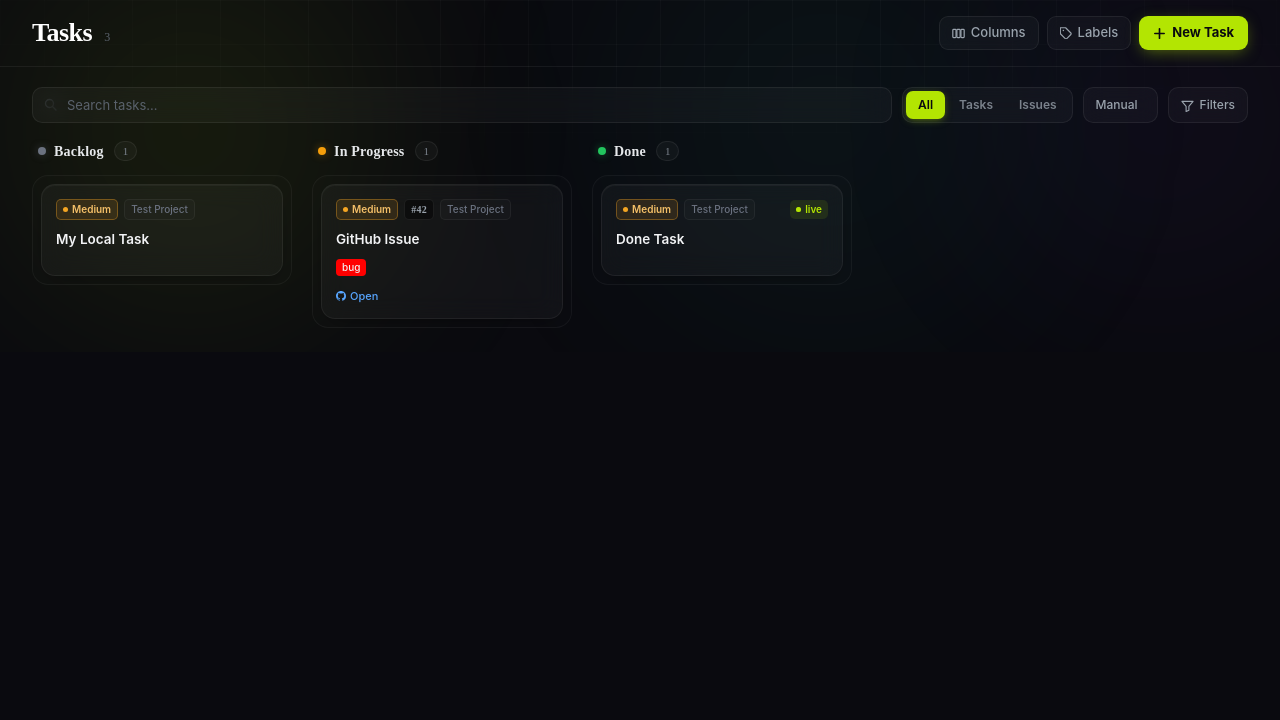
Test: KanbanBoard › opens create modal when New Task is clicked
Expected: the heading "Backlog" is shown, [54,140,104,162]
Note: Click the first "New Task" button (desktop header)
What coordinates should you click on to do the following:
click the text "New Task"
I would click on:
 (1203, 33)
Its box is [1172,23,1234,43].
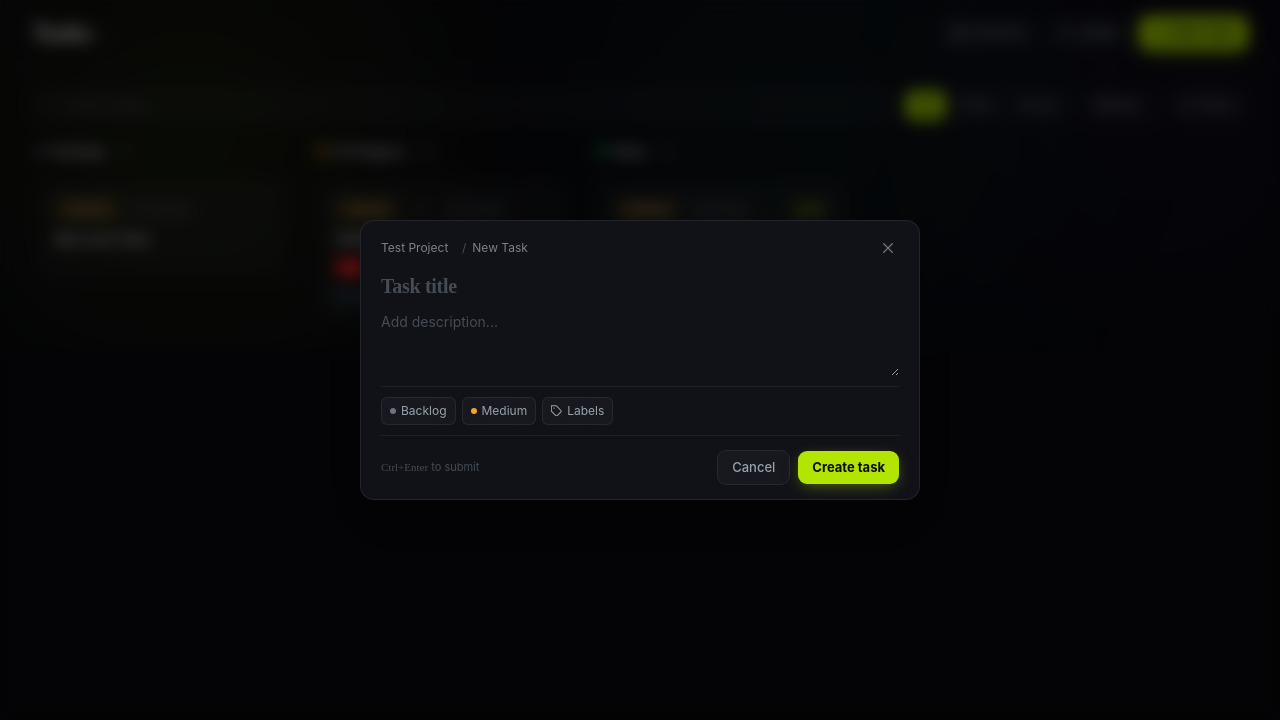
Now the field labelled "title" is shown, box [381,271,899,301]
